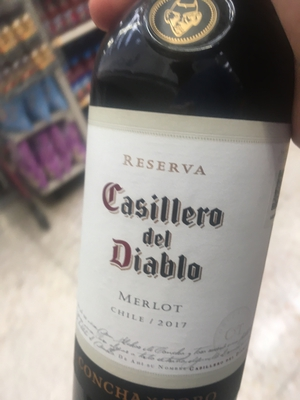casillero del diablo merlot: (70, 14, 298, 400)
